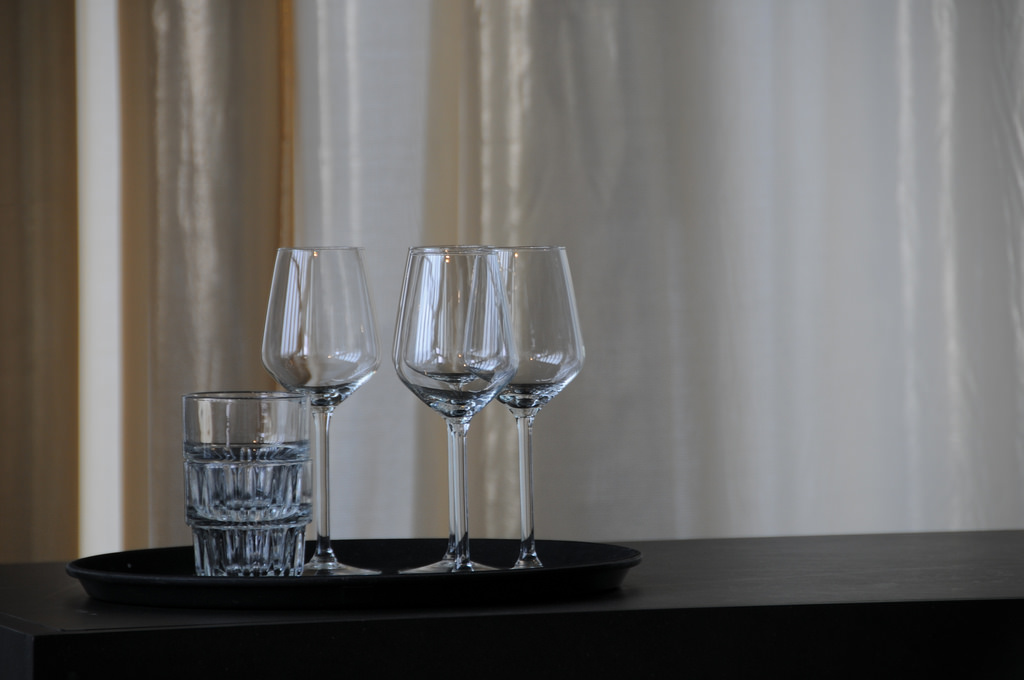glass of water: (253, 232, 390, 577), (388, 241, 507, 581), (479, 240, 590, 579), (177, 385, 322, 577)
